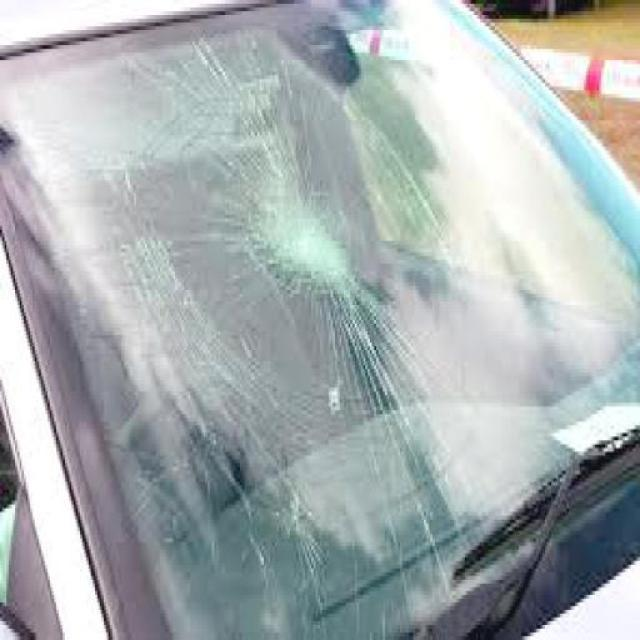car damage: (253, 181, 355, 286)
